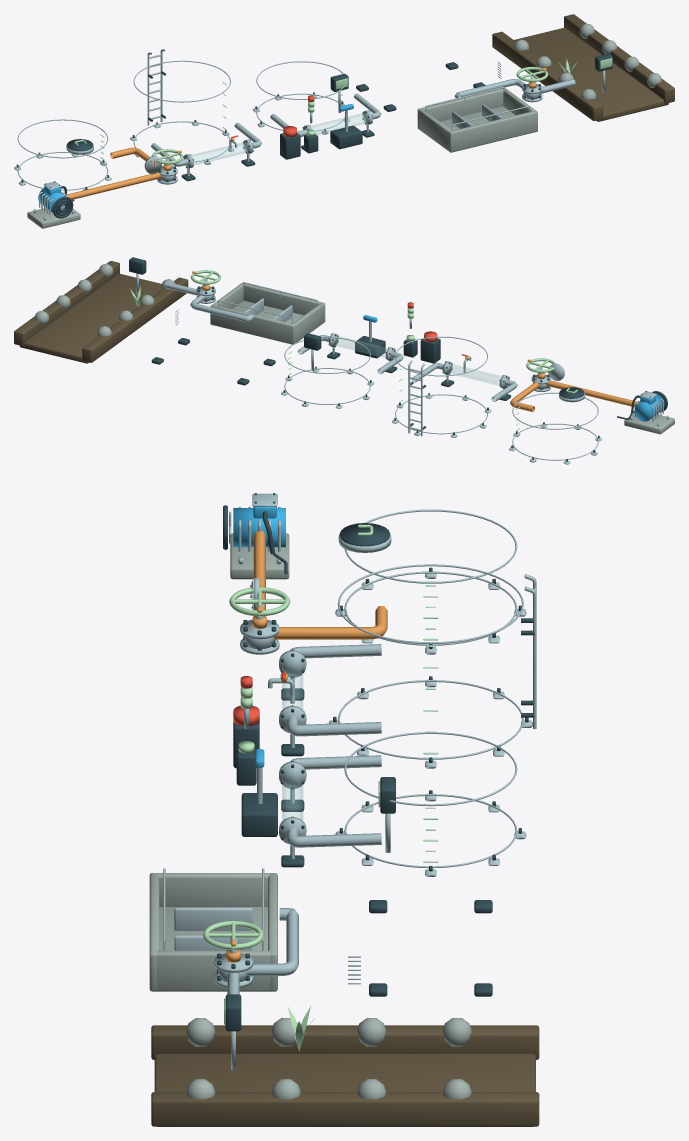
File: interactive-equipment.8166fbd2499b.glb
3 renders of one model, top to bottom at view 1: azimuth 30°, elevation 25°; view 2: azimuth 150°, elevation 25°; view 3: azimuth 270°, elevation 25°, orthographic. The views are drawn at different scales.
Parts seen in each view (by area): view 1: River_Receiving_Earth, Pond_Polishing_Concrete, Pipe_Inspection_Network_Steel, Vessel_Detail_-2_Steel, _Concrete, Pipe_Inspection_Network_Glass, Pipe_Inspection_Network_Copper, Vessel_Detail_-6_Steel, Pond_Polishing_Steel, Vessel_Detail_2_Steel, Pump_Interactive_Concrete, Lever_Aeration_Graphite (+5 smaller); view 2: River_Receiving_Earth, Pond_Polishing_Concrete, Pipe_Inspection_Network_Steel, Vessel_Detail_-2_Steel, _Concrete, Pipe_Inspection_Network_Glass, Pipe_Inspection_Network_Copper, Vessel_Detail_-6_Steel, Vessel_Detail_2_Steel, Pond_Polishing_Steel, Pump_Interactive_Concrete, Lever_Aeration_Graphite (+4 smaller); view 3: River_Receiving_Earth, Pond_Polishing_Concrete, Pipe_Inspection_Network_Steel, _Concrete, Vessel_Detail_-2_Steel, Pond_Polishing_Steel, Vessel_Detail_2_Steel, Pipe_Inspection_Network_Copper, Vessel_Detail_-6_Steel, Pipe_Inspection_Network_Glass, Pump_Interactive_Blue, Lever_Aeration_Graphite (+6 smaller).
Boxes of the visible parts, x1,y1,x2,y2 form: River_Receiving_Earth: [492, 14, 674, 121]; Pond_Polishing_Concrete: [417, 88, 537, 152]; Pipe_Inspection_Network_Steel: [151, 79, 575, 176]; Vessel_Detail_-2_Steel: [130, 49, 234, 166]; _Concrete: [514, 23, 661, 99]; Pipe_Inspection_Network_Glass: [191, 113, 368, 165]; Pipe_Inspection_Network_Copper: [64, 137, 234, 199]; Vessel_Detail_-6_Steel: [14, 119, 111, 190]; Pond_Polishing_Steel: [425, 86, 529, 130]; Vessel_Detail_2_Steel: [252, 61, 350, 134]; Pump_Interactive_Concrete: [27, 208, 80, 228]; Lever_Aeration_Graphite: [330, 125, 362, 149]; River_Receiving_Earth: [14, 261, 188, 363]; Pond_Polishing_Concrete: [210, 283, 325, 344]; Pipe_Inspection_Network_Steel: [164, 282, 517, 401]; Vessel_Detail_-2_Steel: [392, 336, 491, 437]; _Concrete: [34, 263, 175, 336]; Pipe_Inspection_Network_Glass: [333, 336, 501, 385]; Pipe_Inspection_Network_Copper: [465, 356, 639, 412]; Vessel_Detail_-6_Steel: [509, 392, 601, 464]; Vessel_Detail_2_Steel: [281, 337, 374, 408]; Pond_Polishing_Steel: [218, 282, 317, 323]; Pump_Interactive_Concrete: [624, 413, 674, 434]; Lever_Aeration_Graphite: [355, 336, 385, 358]; River_Receiving_Earth: [151, 1025, 539, 1126]; Pond_Polishing_Concrete: [149, 873, 277, 991]; Pipe_Inspection_Network_Steel: [227, 644, 381, 994]; _Concrete: [185, 1018, 471, 1099]; Vessel_Detail_-2_Steel: [329, 564, 536, 768]; Pond_Polishing_Steel: [163, 868, 264, 950]; Vessel_Detail_2_Steel: [335, 732, 526, 876]; Pipe_Inspection_Network_Copper: [253, 530, 387, 682]; Vessel_Detail_-6_Steel: [335, 509, 526, 654]; Pipe_Inspection_Network_Glass: [282, 658, 302, 820]; Pump_Interactive_Blue: [233, 506, 285, 547]; Lever_Aeration_Graphite: [241, 793, 277, 836].
Size of the model in its own units: 20.52 by 2.7 by 5.92.
